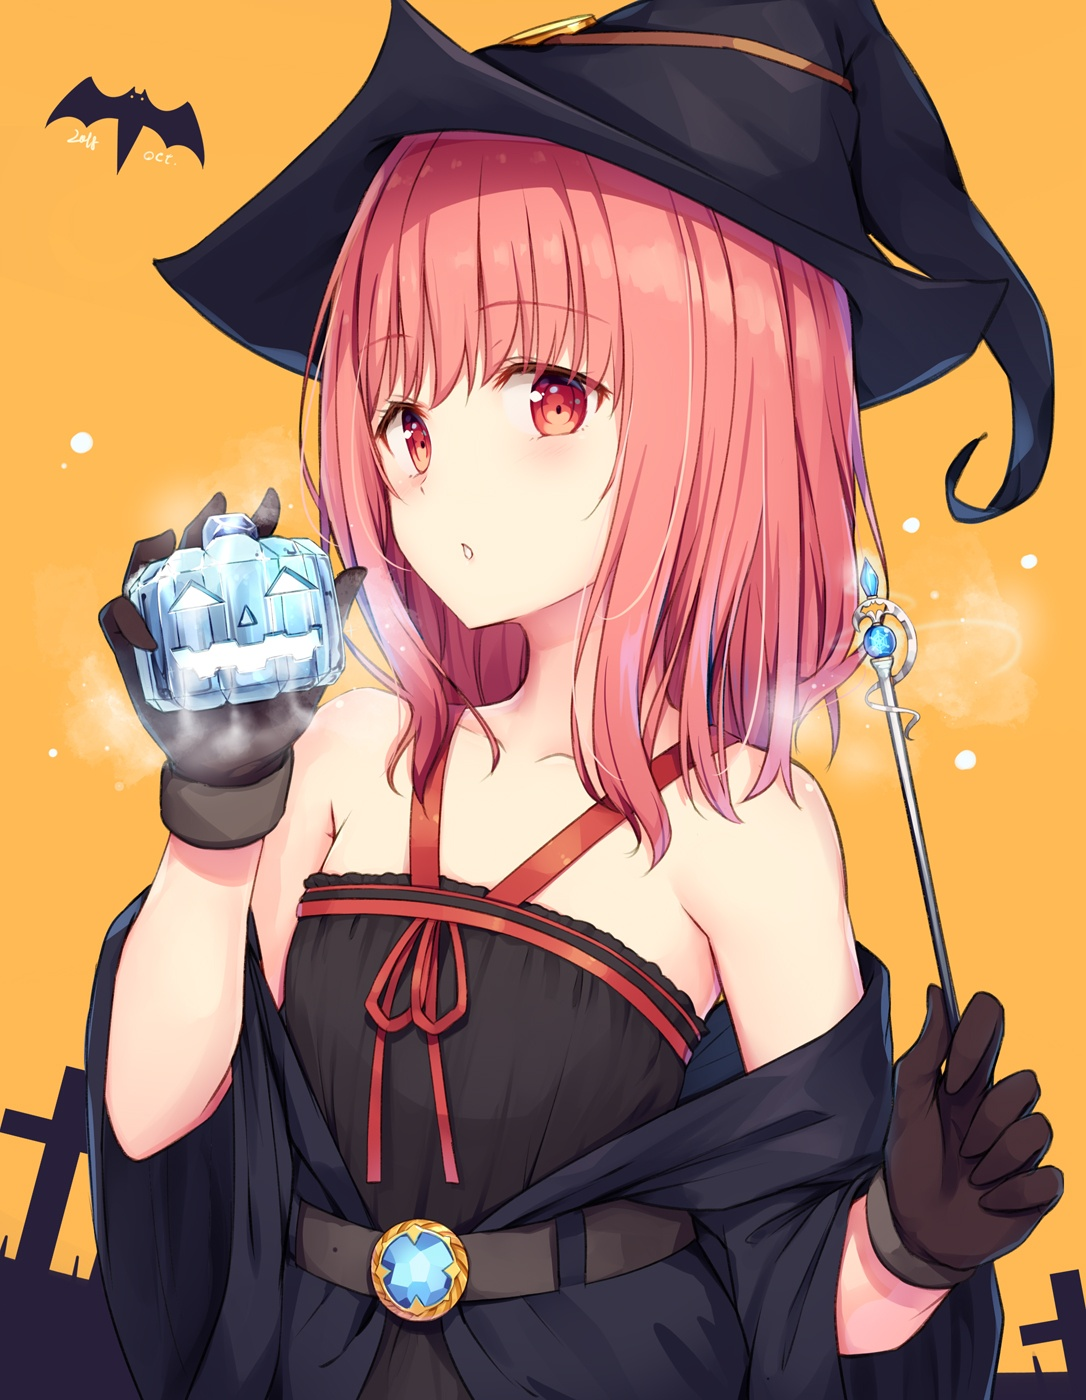纸片人正脸: (289, 103, 843, 647)
